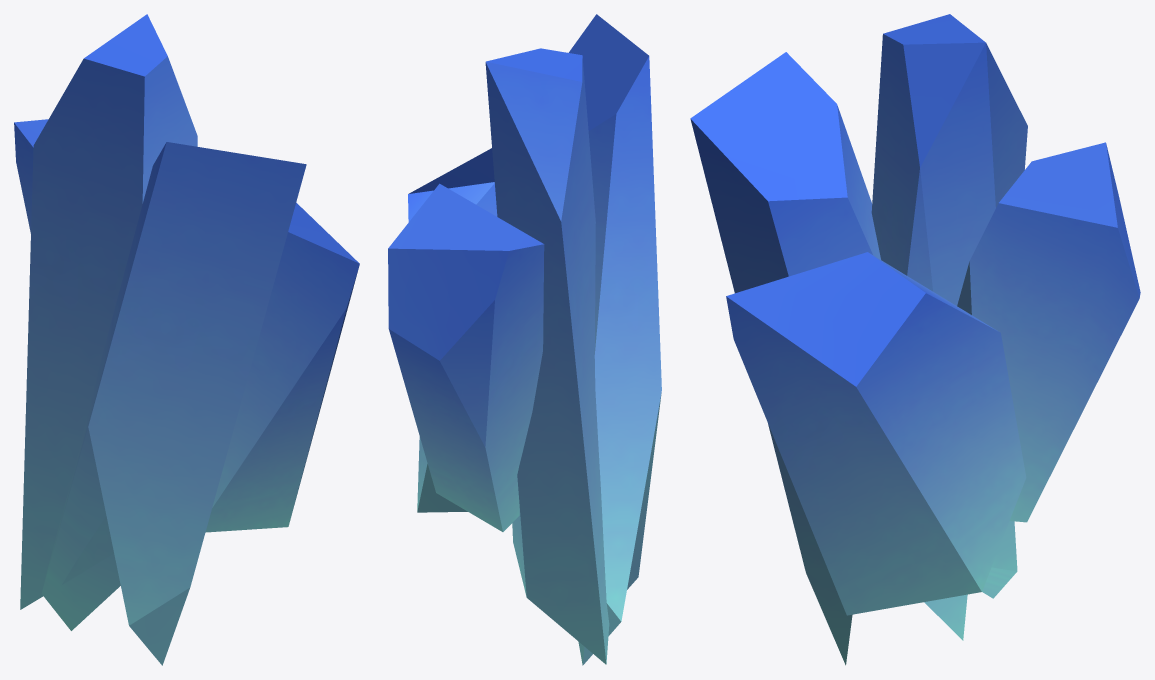
File: Crystals.fbx
3 renders of one model, left to right at view 1: azimuth 30°, elevation 25°; view 2: azimuth 150°, elevation 25°; view 3: azimuth 270°, elevation 25°, orthographic. The views are drawn at different scales.
Visible parts, largest first — view 1: Crystals.014; view 2: Crystals.014; view 3: Crystals.014.
Part boxes in pixels (x1=…): Crystals.014: x1=14, y1=14, x2=359, y2=665; Crystals.014: x1=388, y1=14, x2=661, y2=665; Crystals.014: x1=690, y1=14, x2=1140, y2=665.
Size of the model in its own units: 101 by 237 by 149.
